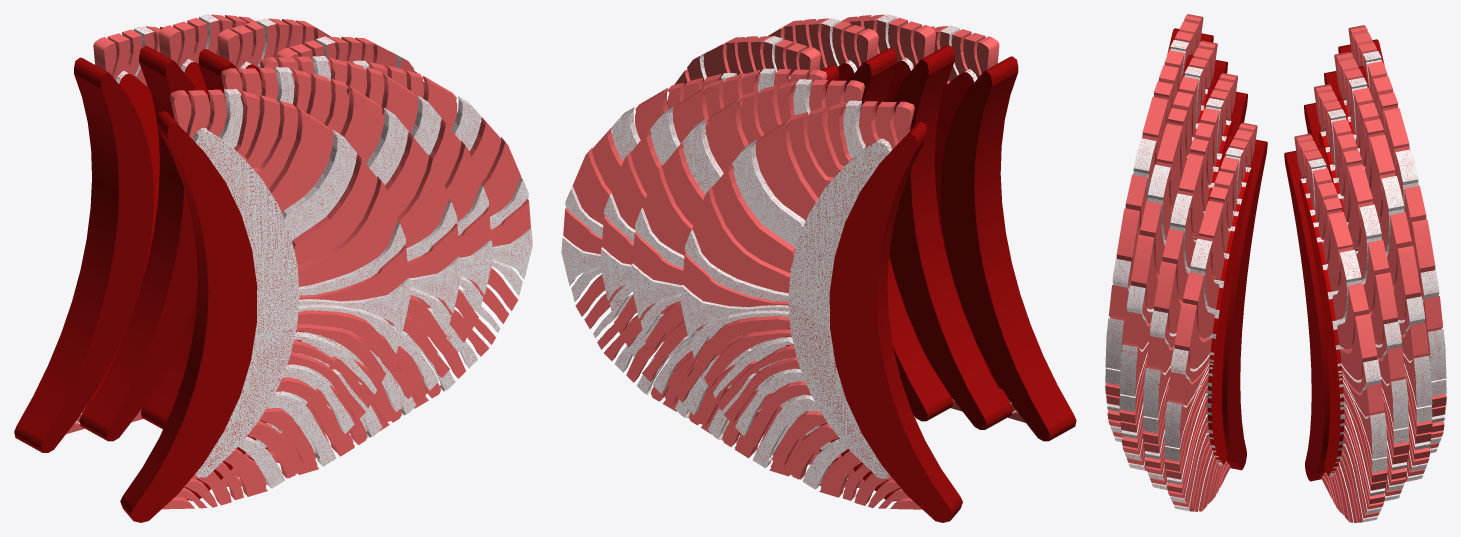
Rendered from insang.dae.
3 renders of one model, left to right at view 1: azimuth 30°, elevation 25°; view 2: azimuth 150°, elevation 25°; view 3: azimuth 270°, elevation 25°, orthographic. The views are drawn at different scales.
Visible parts, largest first — view 1: group_3 (×33), group_1 (×19), group_2 (×9), group_4 (×7); view 2: group_3 (×33), group_1 (×17), group_2 (×9), group_4 (×8); view 3: group_4 (×32), group_2 (×24), group_1 (×24), group_3 (×18).
Boxes of the visible parts, bbox=[...] form: group_3 (×33): bbox=[14, 33, 410, 522]; group_1 (×19): bbox=[79, 21, 461, 441]; group_2 (×9): bbox=[140, 29, 493, 429]; group_4 (×7): bbox=[423, 76, 532, 279]; group_3 (×33): bbox=[680, 33, 1076, 522]; group_1 (×17): bbox=[630, 21, 1012, 439]; group_2 (×9): bbox=[600, 18, 953, 421]; group_4 (×8): bbox=[561, 39, 731, 285]; group_4 (×32): bbox=[1164, 134, 1387, 504]; group_2 (×24): bbox=[1143, 87, 1408, 429]; group_1 (×24): bbox=[1119, 66, 1432, 422]; group_3 (×18): bbox=[1105, 65, 1446, 381].
Size of the model in its own units: 9.69 by 6.7 by 9.17.
